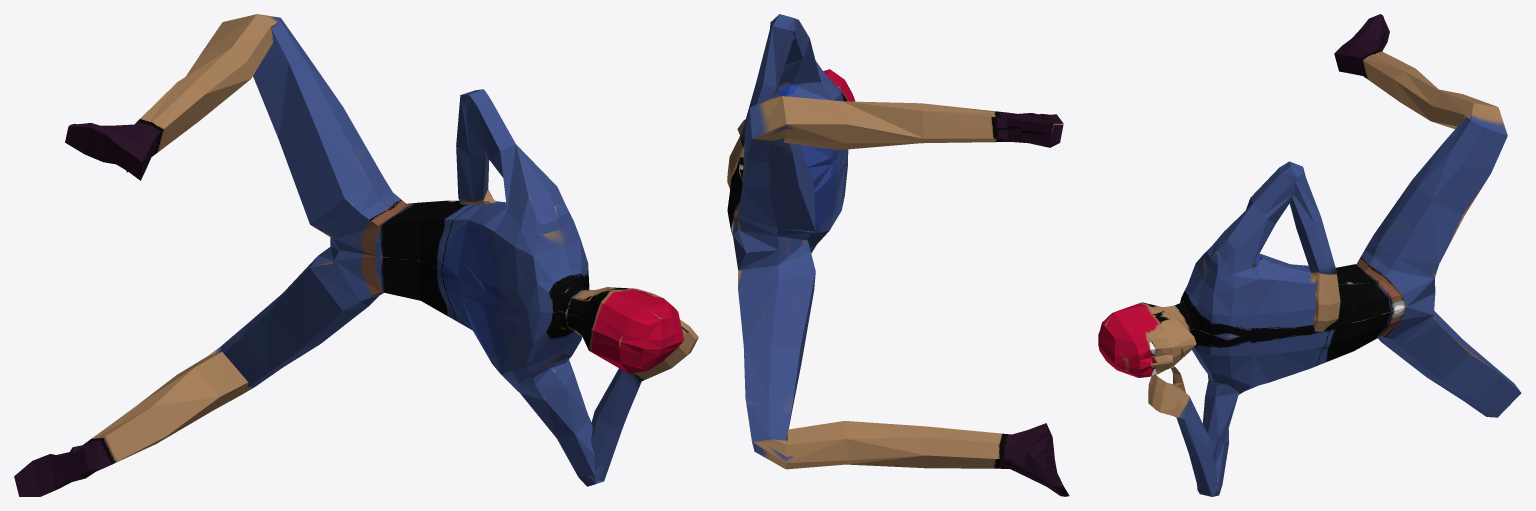
Rendered from mirrorman_000027.obj.
3 views of the same model, side by side, from view 1: azimuth 30°, elevation 25°; view 2: azimuth 150°, elevation 25°; view 3: azimuth 270°, elevation 25° (orthographic). The views are drawn at different scales.
Visible parts, largest first — view 1: mirrorman_Cube.001_Material.001; view 2: mirrorman_Cube.001_Material.001; view 3: mirrorman_Cube.001_Material.001.
Boxes of the visible parts, x1,y1,x2,y2 form: mirrorman_Cube.001_Material.001: (14,14,698,496); mirrorman_Cube.001_Material.001: (727,14,1069,496); mirrorman_Cube.001_Material.001: (1098,14,1521,496).
Size of the model in its own units: 1.27 by 0.9206 by 1.09.
1 material, 1 textured.
